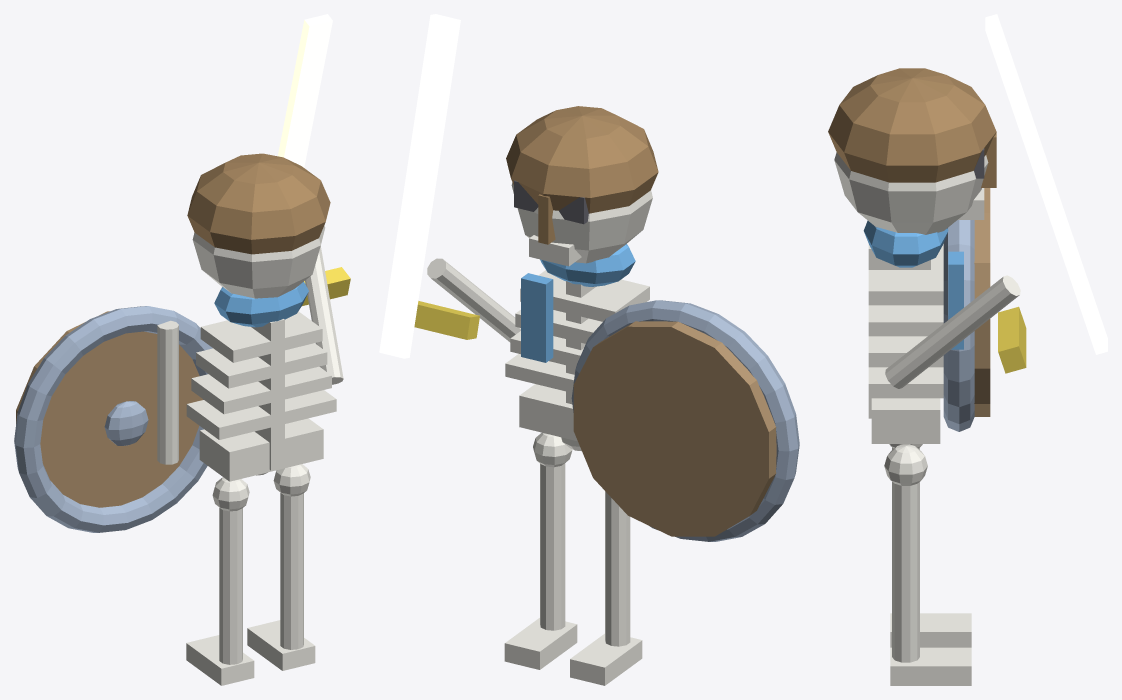
The model's file is skeletons.glb.
3 views of the same model, side by side, from view 1: azimuth 30°, elevation 25°; view 2: azimuth 150°, elevation 25°; view 3: azimuth 270°, elevation 25° (orthographic). The views are drawn at different scales.
Visible parts, largest first — view 1: skeletons; view 2: skeletons; view 3: skeletons.
Part boxes in pixels (bbox=[...]): skeletons: bbox=[14, 14, 350, 685]; skeletons: bbox=[379, 14, 799, 685]; skeletons: bbox=[828, 14, 1107, 685].
Bounding box in the file's own units: 1.5 × 2.44 × 0.8964.
